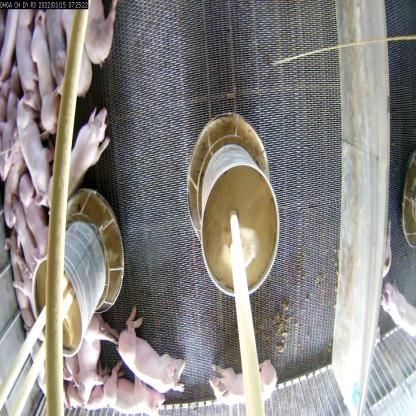Pig: (110, 298, 189, 398), (52, 99, 116, 199), (17, 92, 61, 213), (65, 312, 122, 399), (205, 360, 277, 414), (30, 12, 60, 134), (104, 362, 167, 415), (21, 180, 50, 266)
